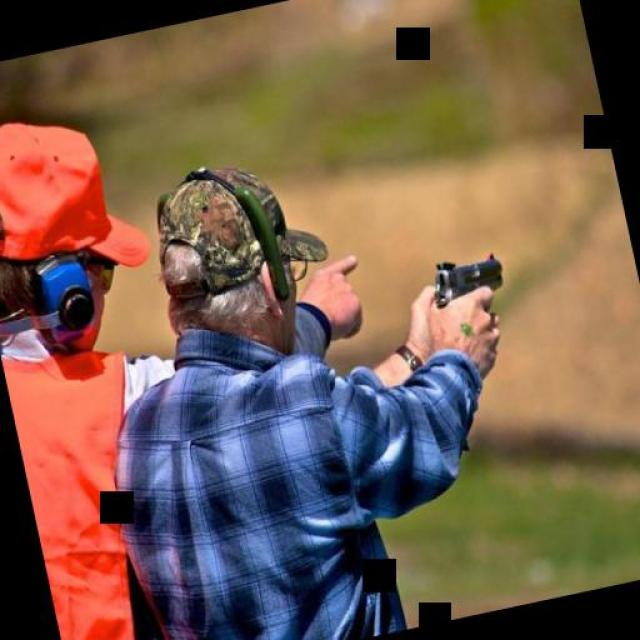gun: (408, 235, 514, 321)
